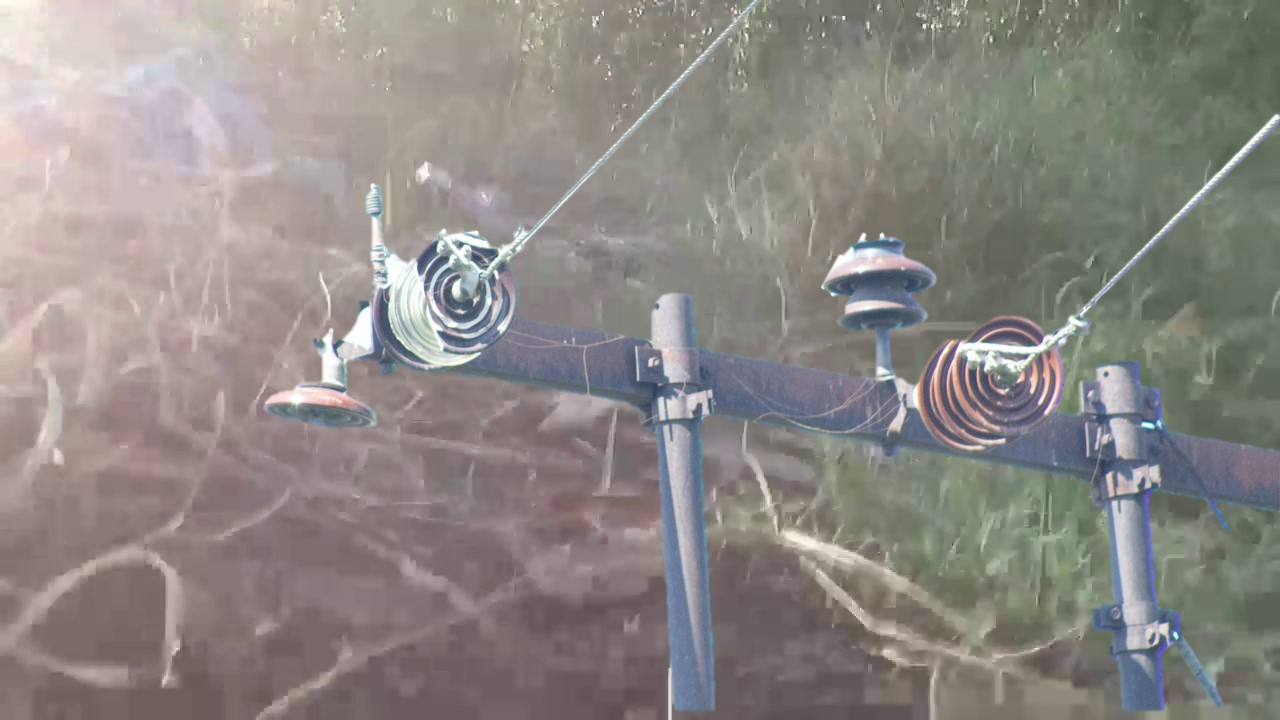defect_disc: (413, 230, 521, 362)
insulator_disc: (950, 307, 1066, 440), (261, 356, 382, 436)
